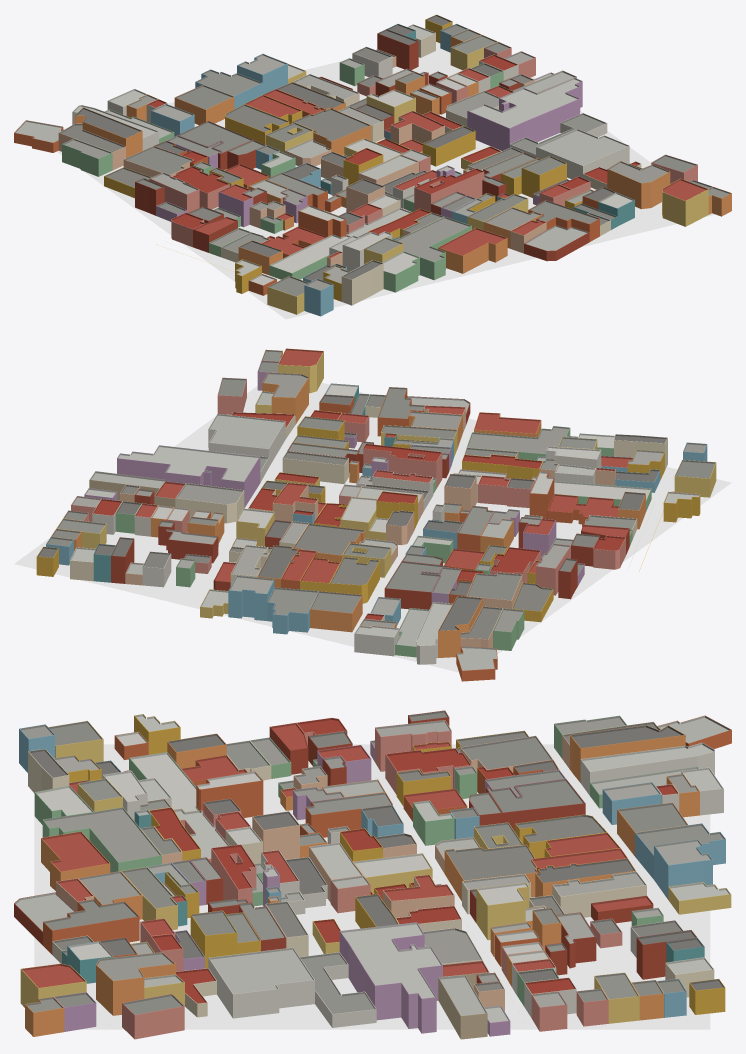
3 views of the same model, one above another, from view 1: azimuth 30°, elevation 25°; view 2: azimuth 150°, elevation 25°; view 3: azimuth 270°, elevation 25° (orthographic). The views are drawn at different scales.
Parts seen in each view (by area): view 1: roofs, walls, plaza; view 2: roofs, walls, plaza, pavers; view 3: roofs, walls, plaza, pavers.
Boxes of the visible parts, x1,y1,x2,y2 form: roofs: (14,14,731,296); walls: (14,19,731,316); plaza: (57,42,715,319); roofs: (37,348,715,670); walls: (36,351,716,681); plaza: (14,382,731,672); pavers: (83,580,539,629); roofs: (14,710,731,1022); walls: (14,715,731,1039); plaza: (34,744,710,1029); pavers: (542,744,710,963).
Size of what is drawn, in the model's own units: 272 by 14.15 by 266.
